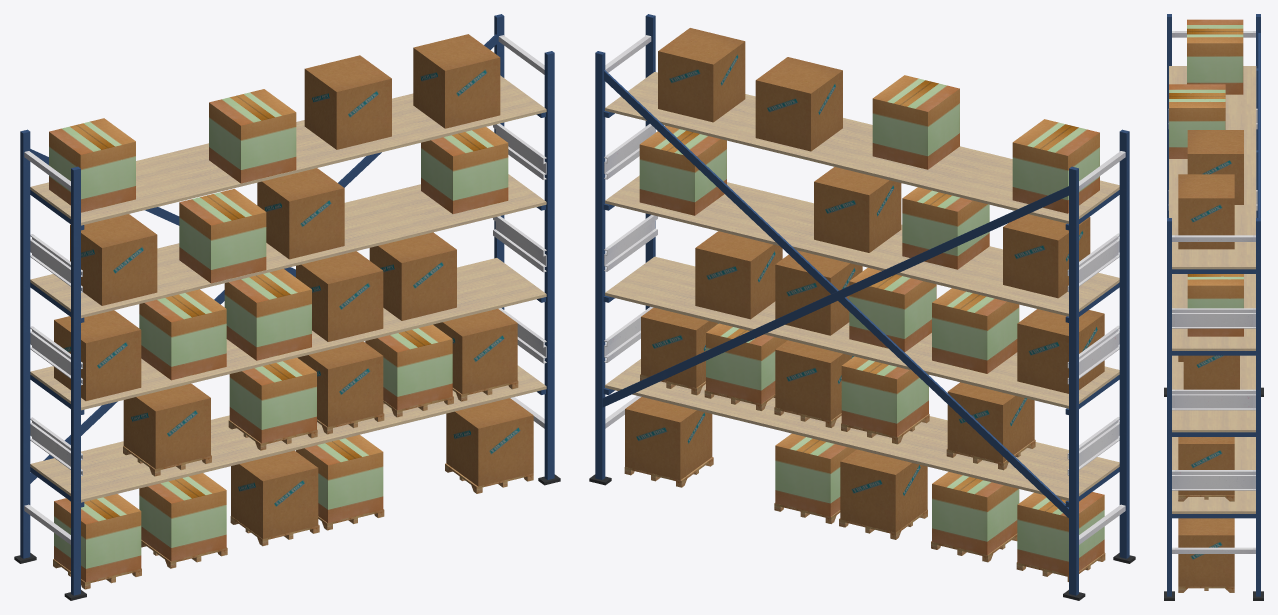
The model's file is BigShelves03Group2.FBX.
The picture shows the model from 3 angles, left to right: view 1: azimuth 30°, elevation 25°; view 2: azimuth 150°, elevation 25°; view 3: azimuth 270°, elevation 25°; orthographic projection. The views are drawn at different scales.
Parts seen in each view (by area): view 1: Cardboard_box05, Cardboard_box01, BigShelves03, BigShelvesWoodBox; view 2: BigShelves03, Cardboard_box05, Cardboard_box01, BigShelvesWoodBox; view 3: BigShelves03, Cardboard_box05, Cardboard_box01, BigShelvesWoodBox.
Boxes of the visible parts, x1,y1,x2,y2 form: Cardboard_box05: (54, 34, 533, 538); Cardboard_box01: (49, 89, 508, 582); BigShelves03: (14, 14, 560, 600); BigShelvesWoodBox: (53, 380, 533, 589); BigShelves03: (589, 14, 1135, 600); Cardboard_box05: (625, 28, 1104, 532); Cardboard_box01: (639, 75, 1104, 574); BigShelvesWoodBox: (624, 374, 1105, 581); BigShelves03: (1164, 14, 1263, 600); Cardboard_box05: (1178, 130, 1243, 586); Cardboard_box01: (1169, 19, 1243, 336); BigShelvesWoodBox: (1178, 495, 1234, 592).
Bounding box in the file's own units: 355 × 299 × 71.14.
